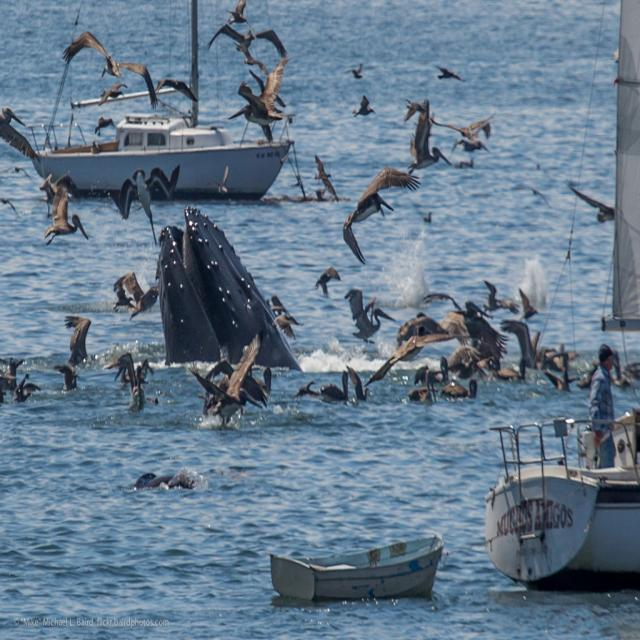Boat: (478, 0, 640, 586), (3, 34, 310, 210), (268, 528, 446, 604)
